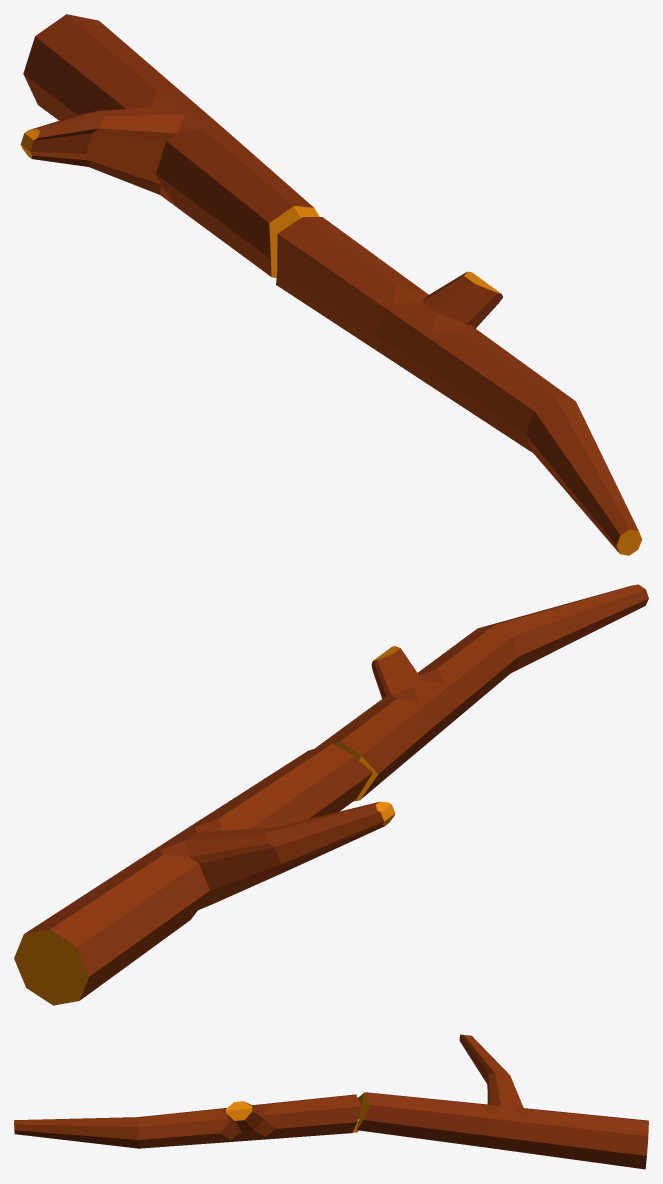
File: Stick_8.fbx
The picture shows the model from 3 angles, top to bottom: view 1: azimuth 30°, elevation 25°; view 2: azimuth 150°, elevation 25°; view 3: azimuth 270°, elevation 25°; orthographic projection. The views are drawn at different scales.
Visible parts, largest first — view 1: Circle.037, Circle.031; view 2: Circle.031, Circle.037; view 3: Circle.031, Circle.037.
Boxes of the visible parts, x1,y1,x2,y2 form: Circle.037: (276, 217, 642, 555); Circle.031: (20, 14, 319, 277); Circle.031: (14, 743, 395, 1005); Circle.037: (315, 584, 648, 801); Circle.031: (356, 1034, 648, 1169); Circle.037: (14, 1094, 361, 1148).
Size of the model in its own units: 10.19 by 5.9 by 41.42.
